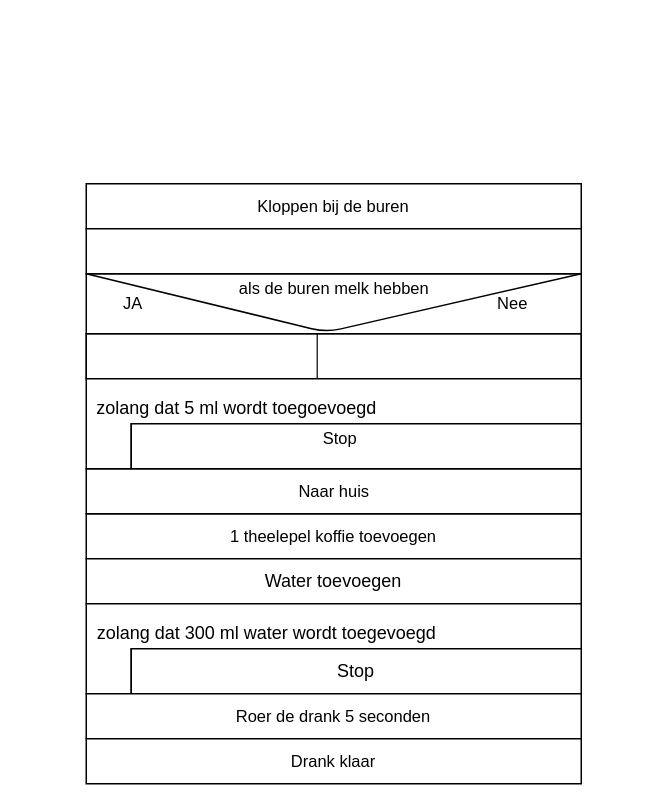
Image size: 666x810. Some labels were removed from this diagram. The box of each missing label's shape, as (x1, y1, x2, y2) in pixels:
melk toevoegen: (85, 332, 581, 379)
Melk vragen: (85, 227, 581, 274)
